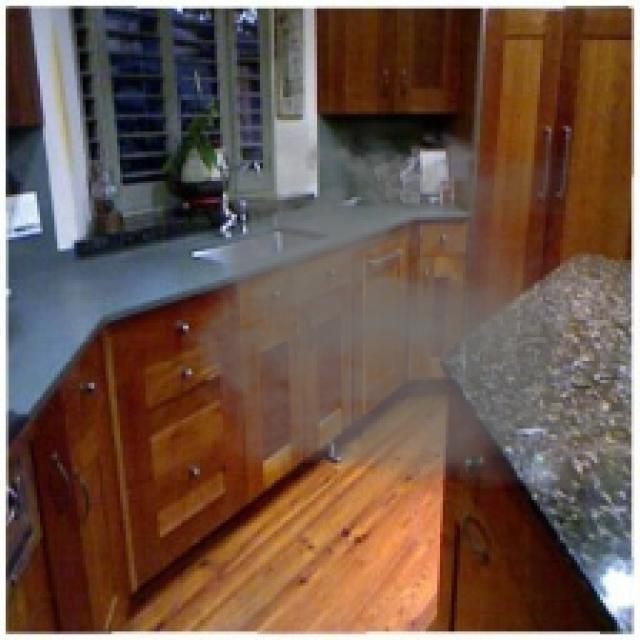Smoke: (168, 120, 574, 489)
